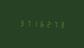one: (31, 19, 37, 27)
seven: (24, 19, 30, 27), (52, 20, 58, 28)
six: (38, 19, 44, 28)
three: (17, 19, 23, 27), (59, 20, 65, 28)
two: (45, 20, 51, 28)
